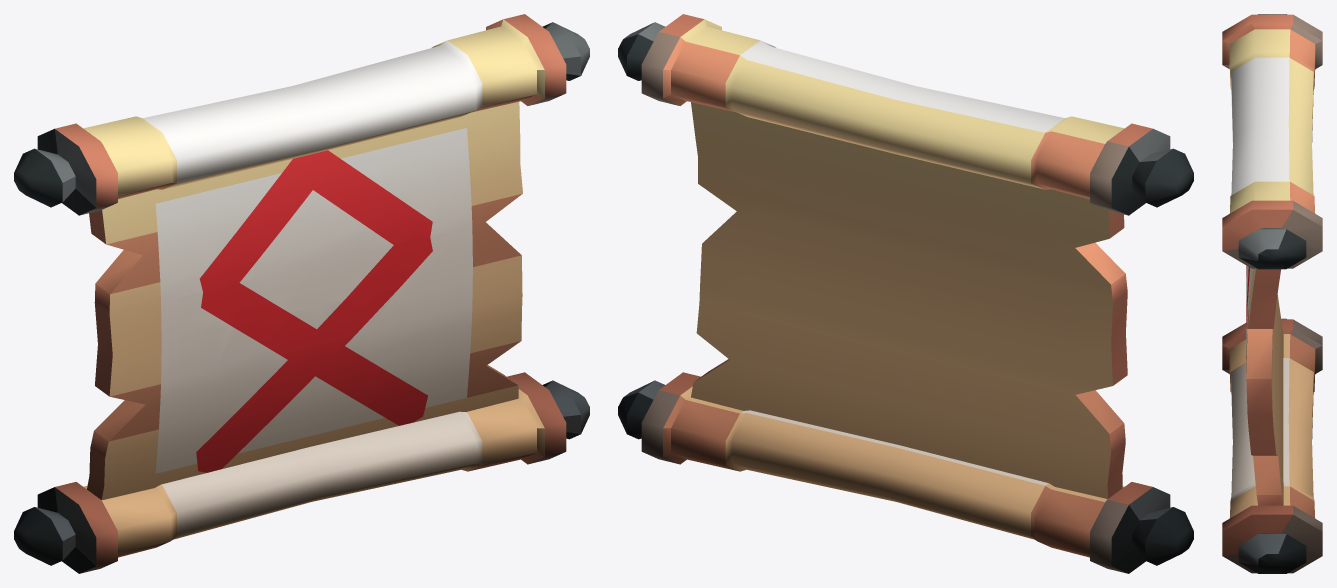
The model's file is scroll_crimson_othala.glb.
3 views of the same model, side by side, from view 1: azimuth 30°, elevation 25°; view 2: azimuth 150°, elevation 25°; view 3: azimuth 270°, elevation 25° (orthographic). The views are drawn at different scales.
Parts seen in each view (by area): view 1: Item; view 2: Item; view 3: Item.
Boxes of the visible parts, x1,y1,x2,y2 form: Item: [14, 14, 589, 573]; Item: [618, 14, 1193, 573]; Item: [1222, 14, 1322, 573].
Bounding box in the file's own units: 0.88 × 0.64 × 0.1596.
2 materials, 2 textured.
